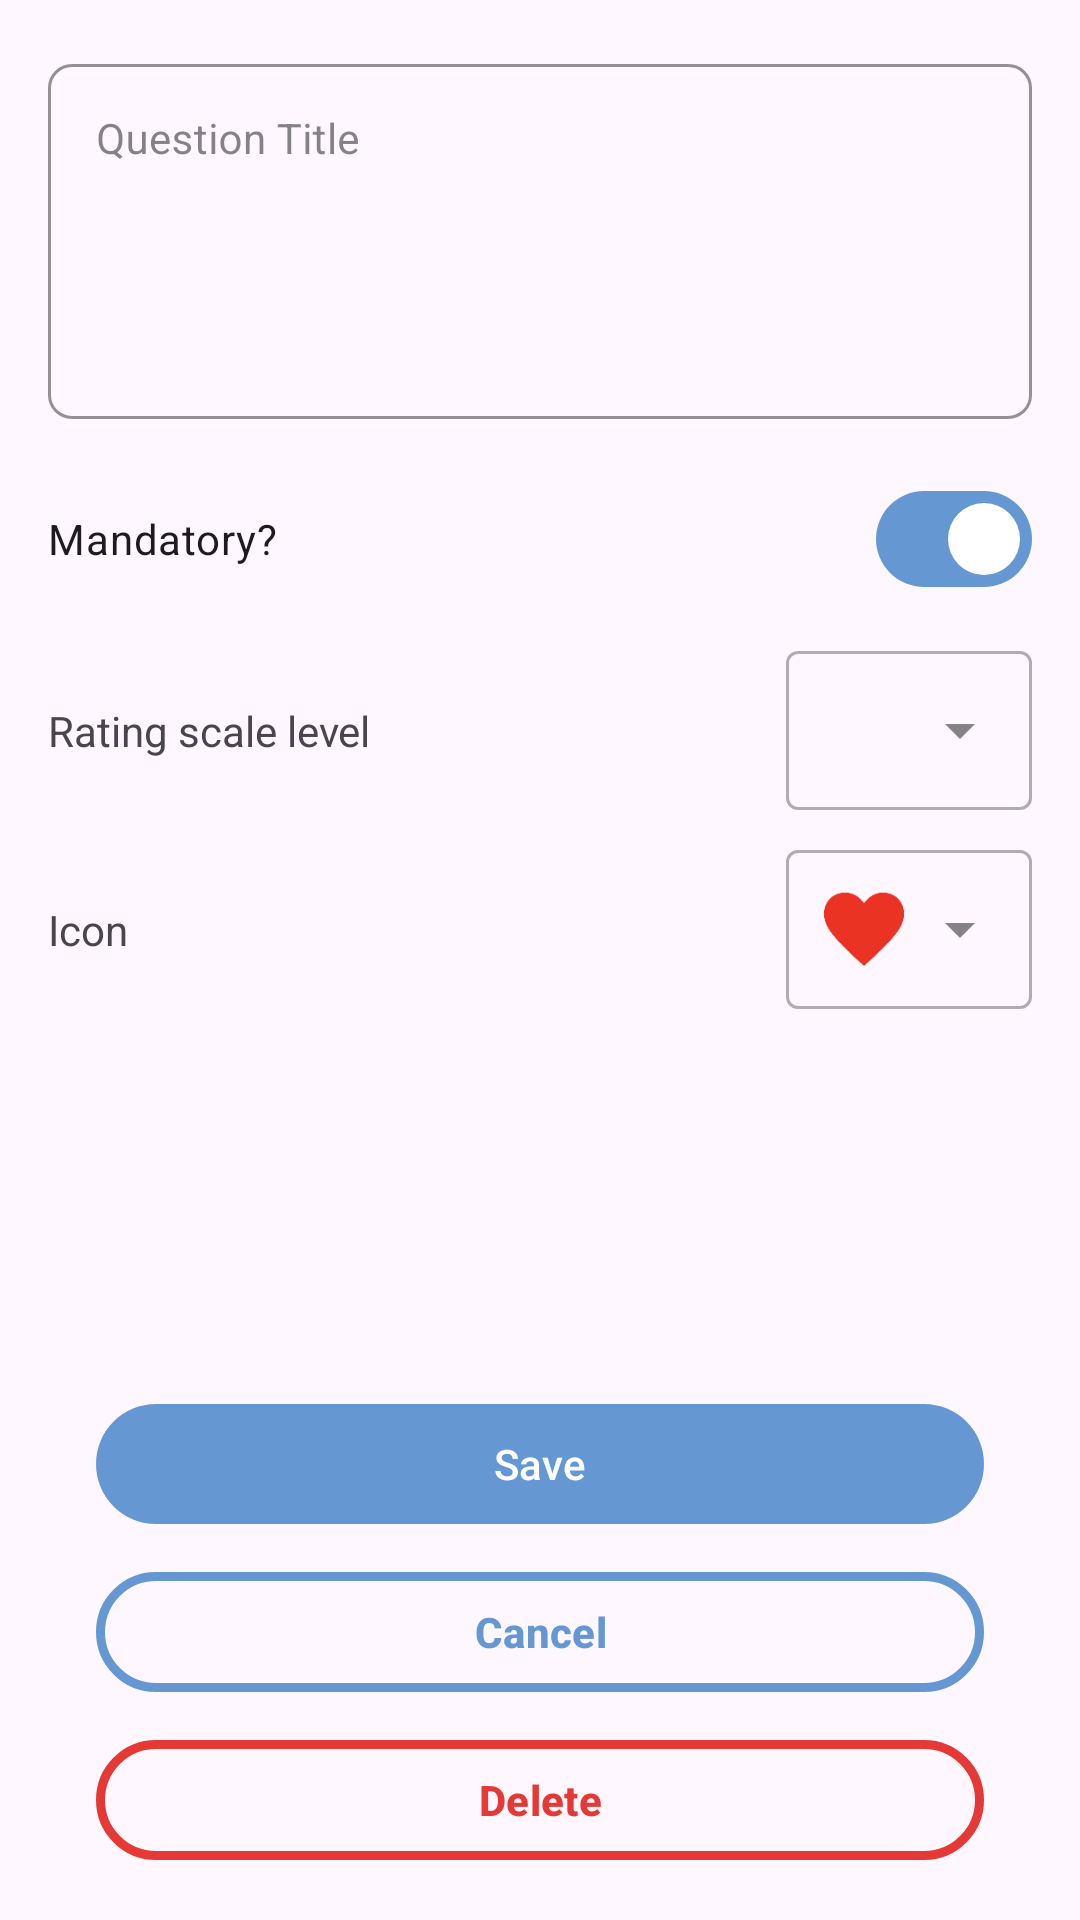

Screen size 1080 × 1920. Icon name, then its center in pixels as [x,y]:
heart: [864,929]
